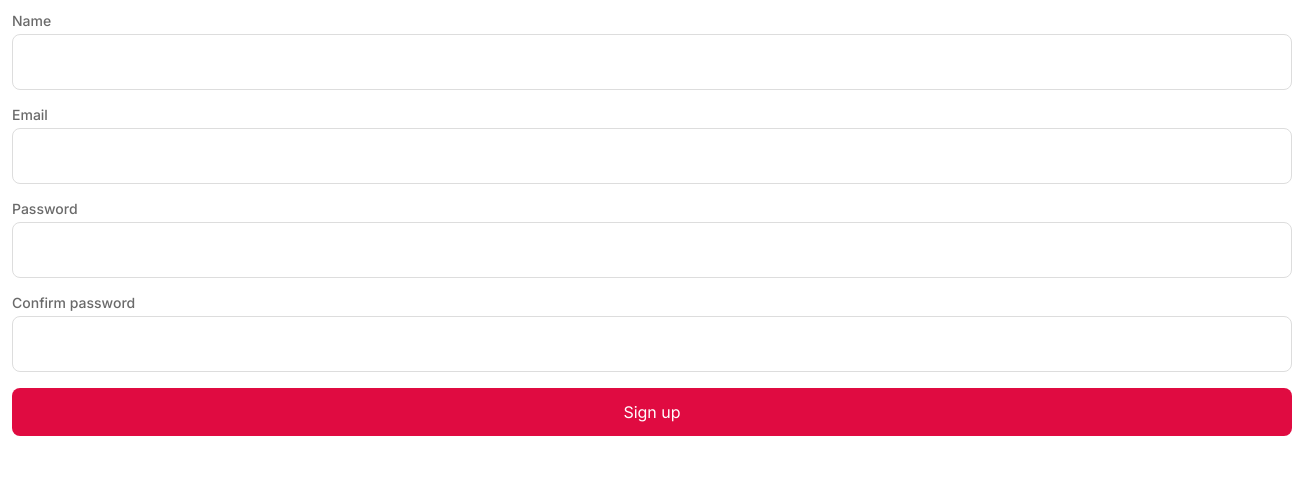
RegisterForm › shows an error when passwords do not match
Step 1. Type "Ana" into the field labelled "Name" → point(652, 62), box top-left (12, 34), bottom-right (1292, 90)
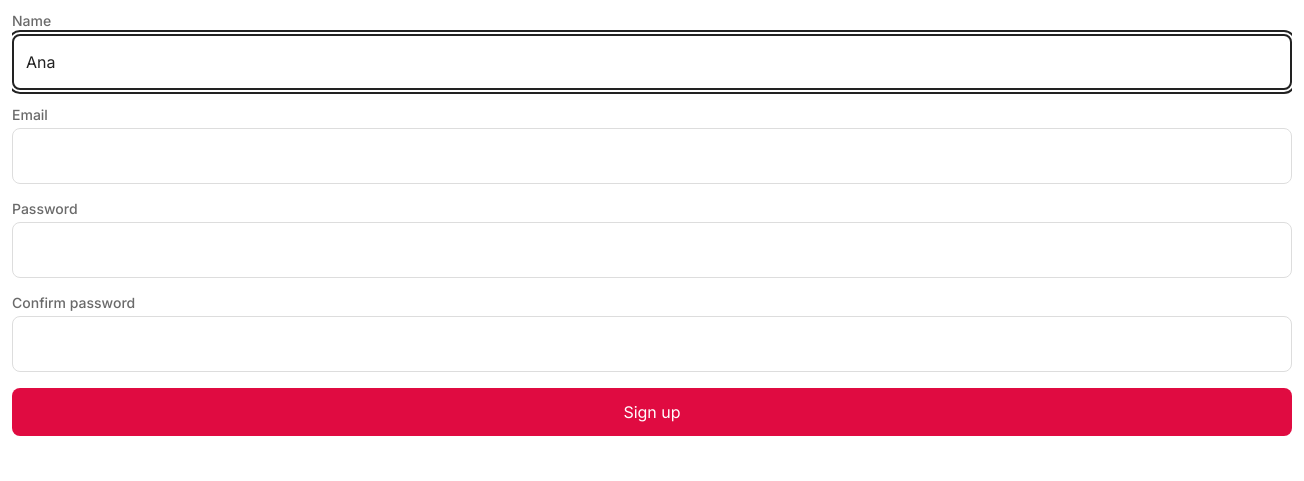
Step 2. Type "a@b.com" into the field labelled "Email" → point(652, 156), box top-left (12, 128), bottom-right (1292, 184)
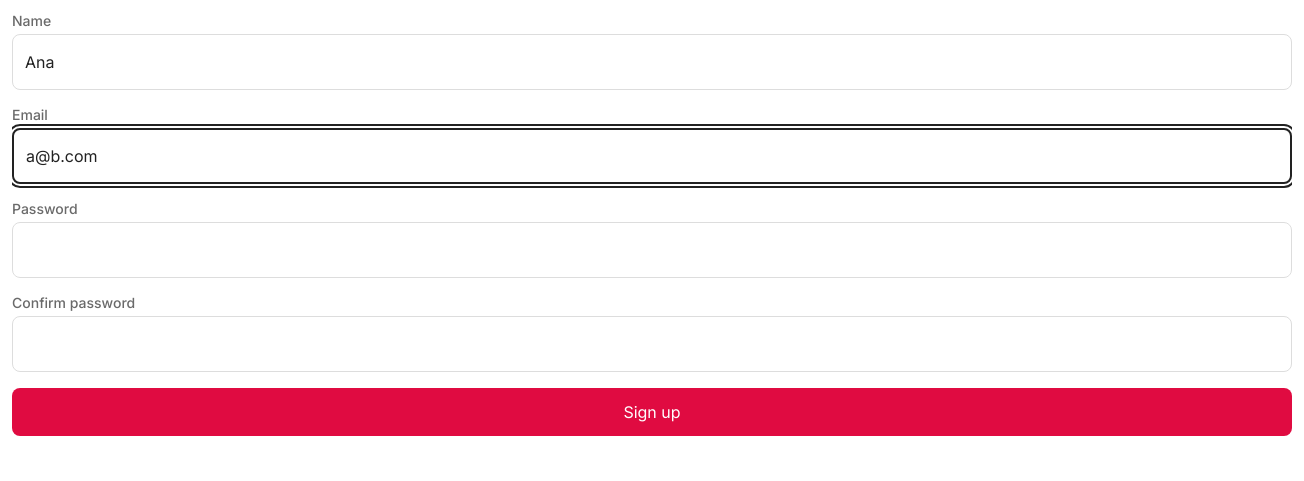
Step 3. Type "supersecret" into the password field labelled "Password" → point(652, 250), box top-left (12, 222), bottom-right (1292, 278)
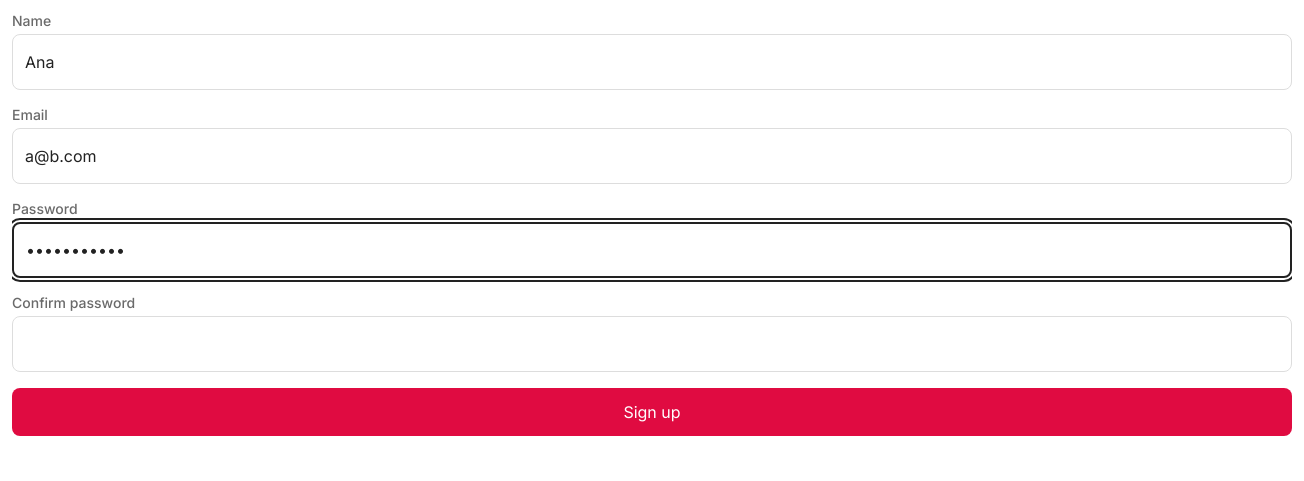
Step 4. Type "different1" into the password field labelled "Confirm password" → point(652, 344), box top-left (12, 316), bottom-right (1292, 372)
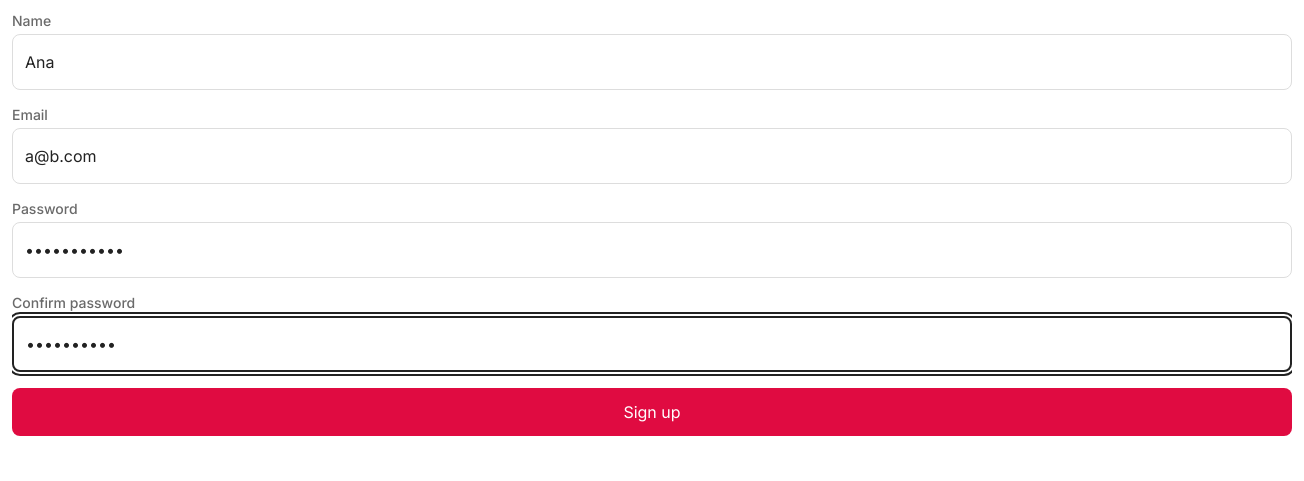
Step 5. Click the button "Sign up" → point(652, 412), box top-left (12, 388), bottom-right (1292, 436)
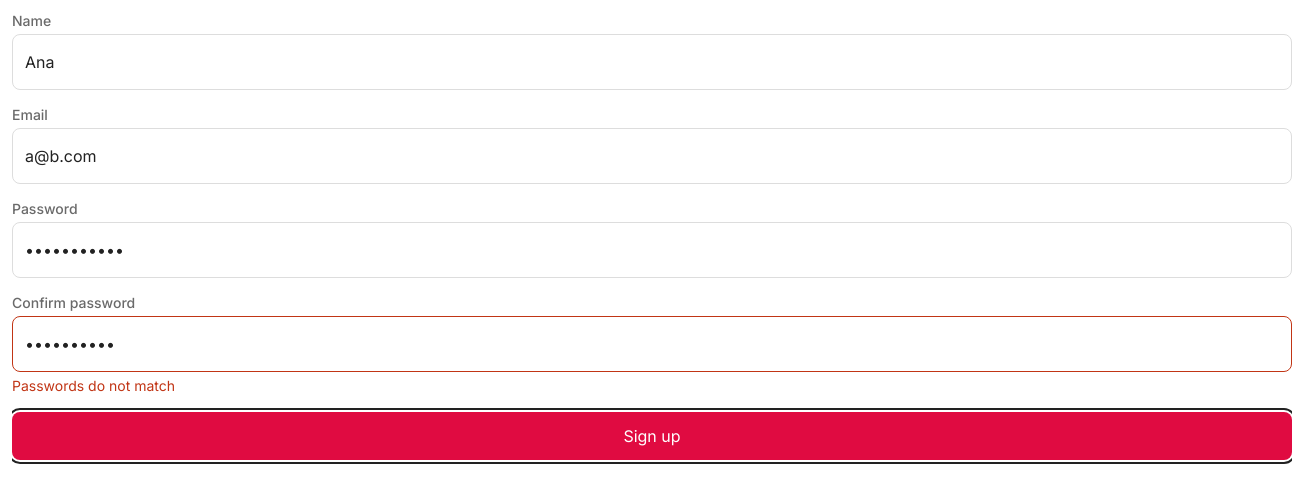
Now the text "Passwords do not match" is shown, box top-left (12, 377), bottom-right (175, 394)
